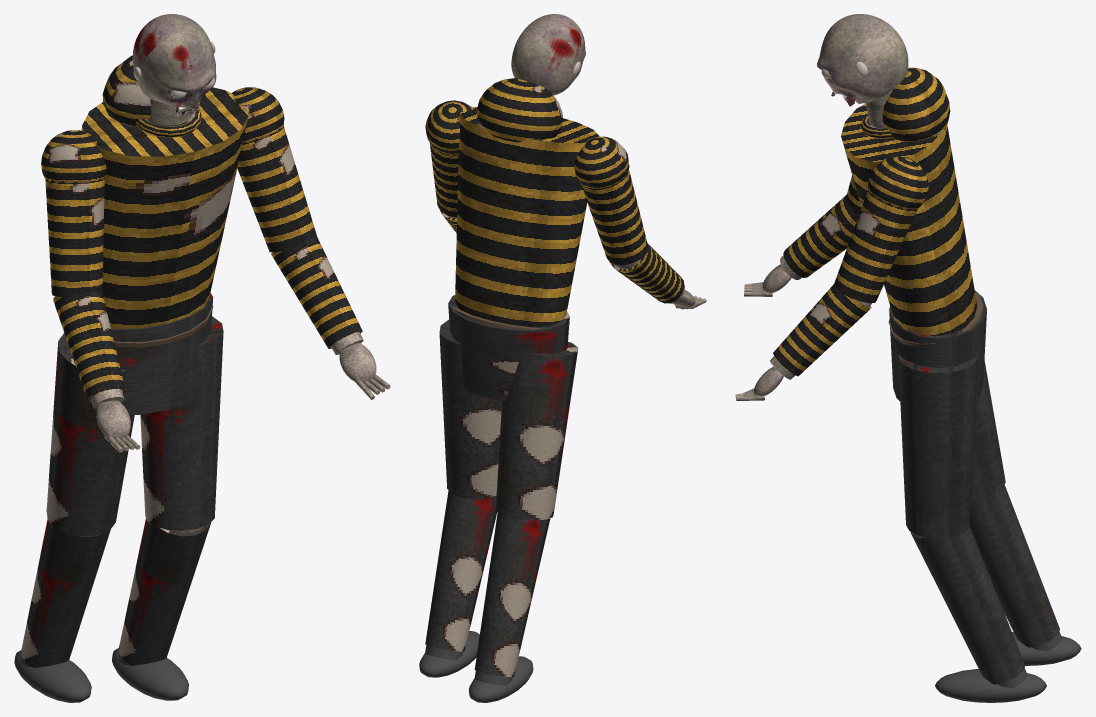
Rendered from Zombie_099.glb.
3 views of the same model, side by side, from view 1: azimuth 30°, elevation 25°; view 2: azimuth 150°, elevation 25°; view 3: azimuth 270°, elevation 25° (orthographic). The views are drawn at different scales.
Parts seen in each view (by area): view 1: Zombie_099, object 18, object 12, object 4, object 13, object 5; view 2: Zombie_099, object 18, object 4; view 3: Zombie_099, object 18, object 12, object 4, object 13.
Boxes of the visible parts, box(x1,y1,x2,y2) form: Zombie_099: box(14, 55, 316, 702); object 18: box(132, 14, 216, 109); object 12: box(271, 236, 362, 348); object 4: box(53, 291, 125, 402); object 13: box(339, 343, 376, 382); object 5: box(96, 400, 130, 438); Zombie_099: box(419, 78, 648, 702); object 18: box(511, 14, 585, 95); object 4: box(609, 243, 684, 303); Zombie_099: box(834, 67, 1081, 702); object 18: box(817, 14, 908, 103); object 12: box(773, 284, 871, 376); object 4: box(783, 194, 858, 277); object 13: box(754, 366, 783, 396).
Bounding box in the file's own units: 0.7149 × 1.86 × 0.88.
15 materials, 5 textured.
